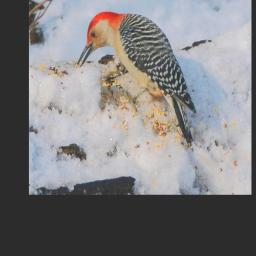Woodpecker: (77, 10, 199, 152)
